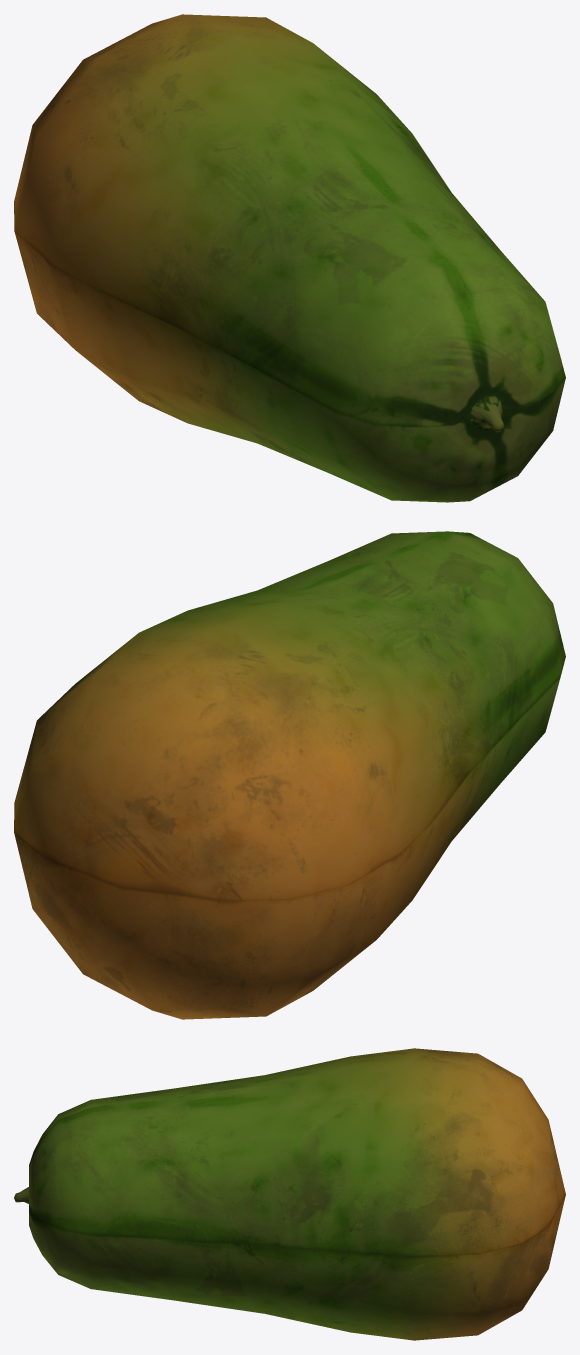
Rendered from PapayaA.glb.
The picture shows the model from 3 angles, top to bottom: view 1: azimuth 30°, elevation 25°; view 2: azimuth 150°, elevation 25°; view 3: azimuth 270°, elevation 25°; orthographic projection. The views are drawn at different scales.
Visible parts, largest first — view 1: PapayaA_Papaya_0; view 2: PapayaA_Papaya_0; view 3: PapayaA_Papaya_0.
Boxes of the visible parts, bbox=[...] form: PapayaA_Papaya_0: bbox=[14, 14, 565, 502]; PapayaA_Papaya_0: bbox=[14, 531, 565, 1019]; PapayaA_Papaya_0: bbox=[14, 1048, 565, 1340].
Size of the model in its own units: 0.7855 by 0.7855 by 1.48.
1 material, 1 textured.
